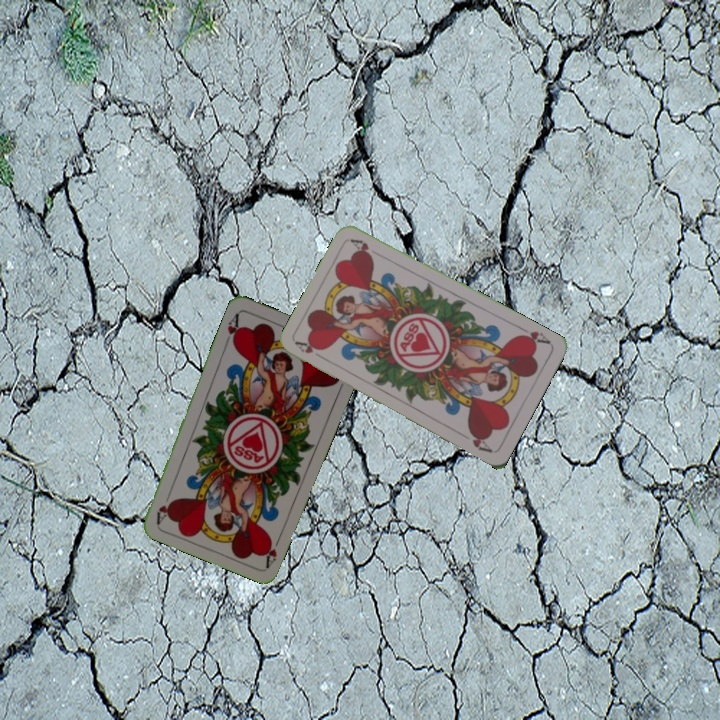HA: (515, 323, 553, 348), (260, 530, 284, 569), (221, 309, 243, 348), (292, 337, 324, 356)
